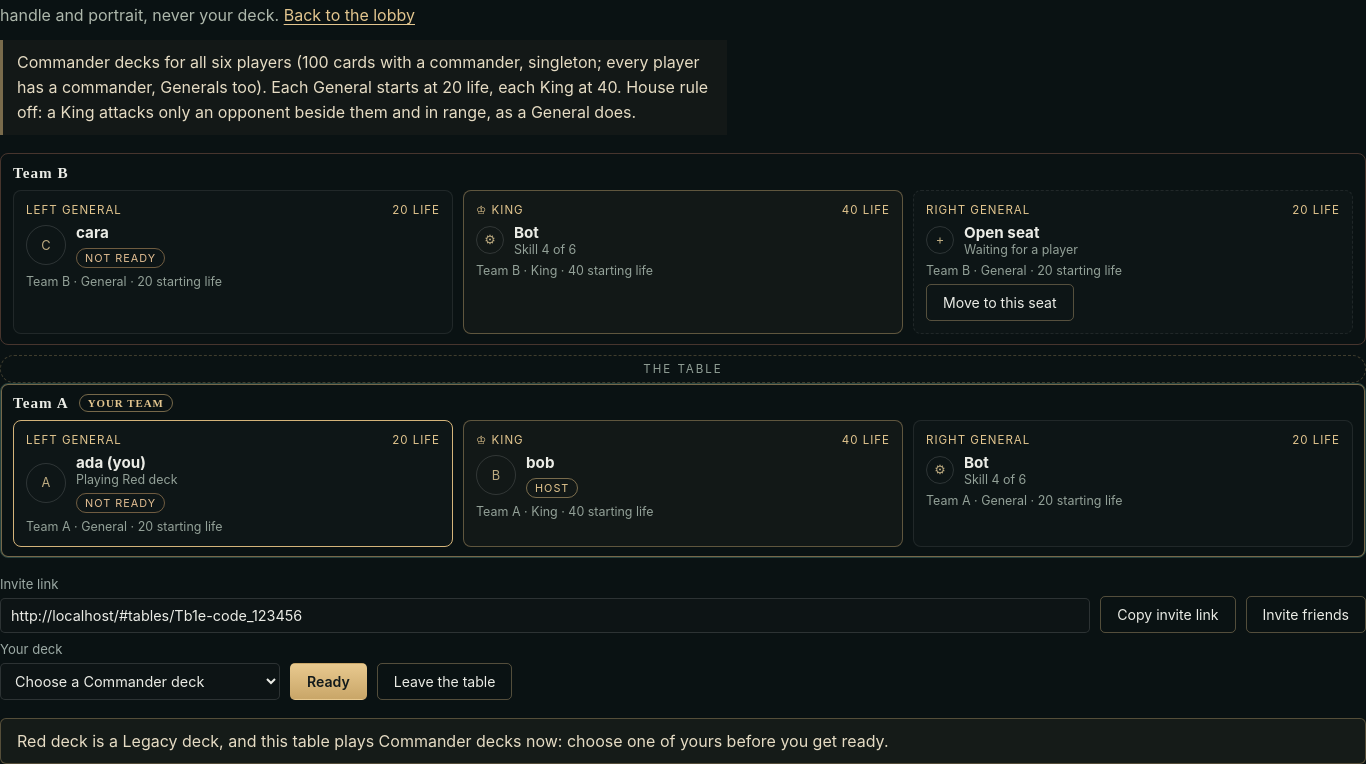
Test case: King's Table at a table (v0.8.7) › says why a deck of the other format cannot get ready
(page scrolled)
Expected: the text "Red deck is a Legacy deck, and this table plays" shows "Commander decks now: choose one of yours before you get ready.", [0,718,1365,763]
Expected: the dropdown labelled "Your deck" shows "Choose a Commander deck", [0,663,280,700]
Click the button "Ready".
click(328, 681)  # box [290,663,367,700]
(page scrolled)
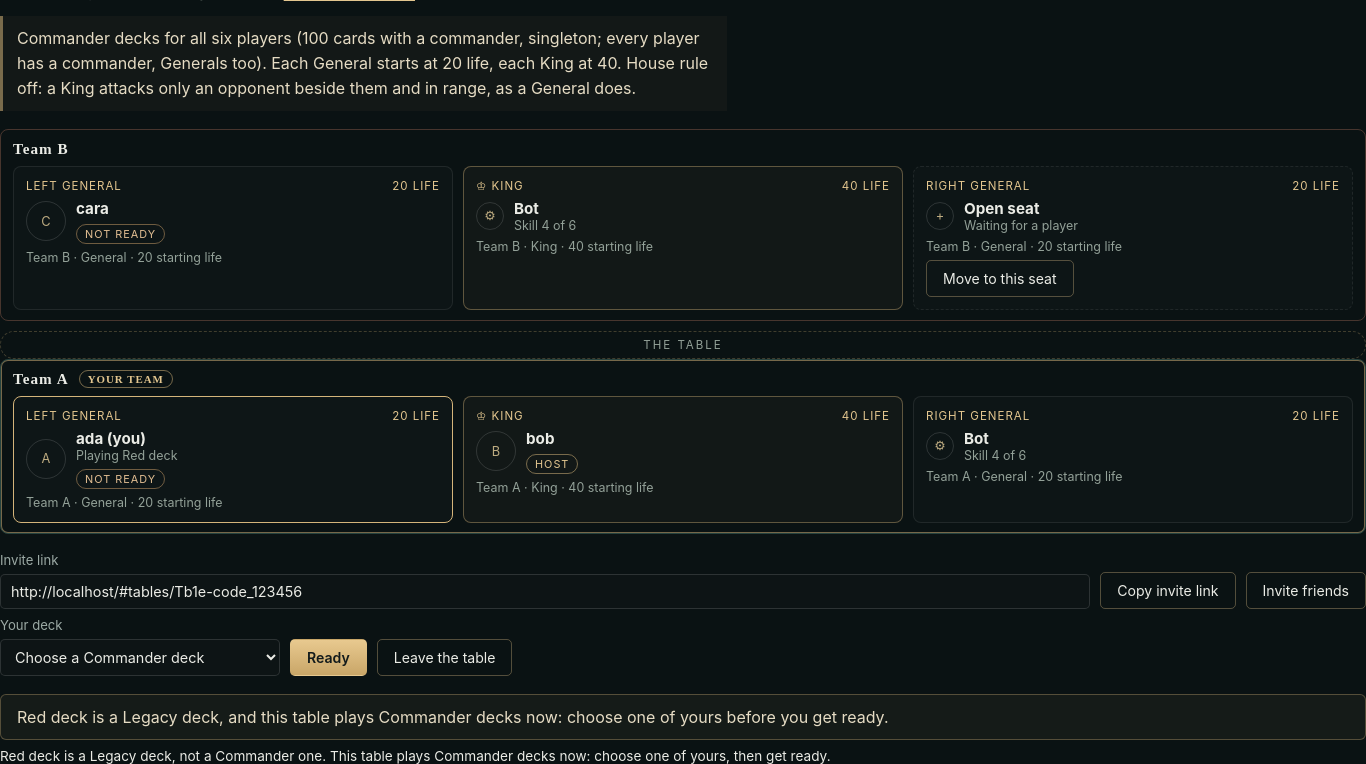
Expected: the 2nd message shows "Red deck is a Legacy deck, not a Commander one. This table plays Commander decks now: choose one of yours, then get ready.", [0,748,831,763]
